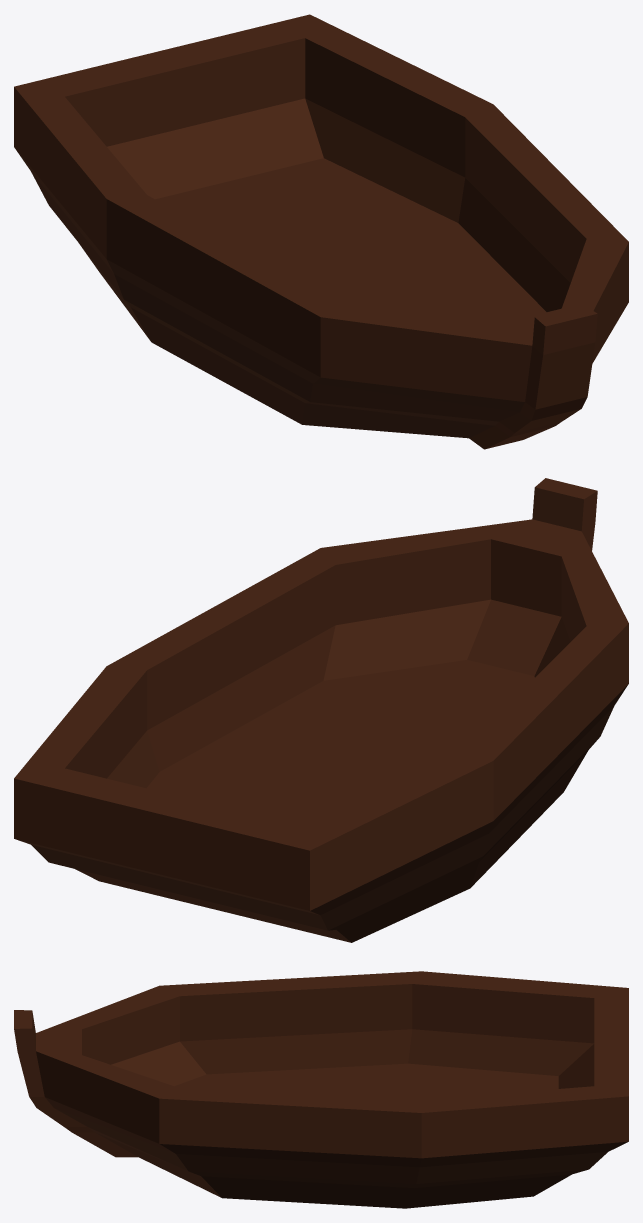
Rendered from Boat.obj.
3 views of the same model, one above another, from view 1: azimuth 30°, elevation 25°; view 2: azimuth 150°, elevation 25°; view 3: azimuth 270°, elevation 25° (orthographic). The views are drawn at different scales.
Visible parts, largest first — view 1: Boat_Cube; view 2: Boat_Cube; view 3: Boat_Cube.
Boxes of the visible parts, box(x1,y1,x2,y2) form: Boat_Cube: box(14, 14, 628, 449); Boat_Cube: box(14, 478, 628, 942); Boat_Cube: box(14, 971, 628, 1208).
Size of the model in its own units: 0.3645 by 0.1569 by 0.6684.
